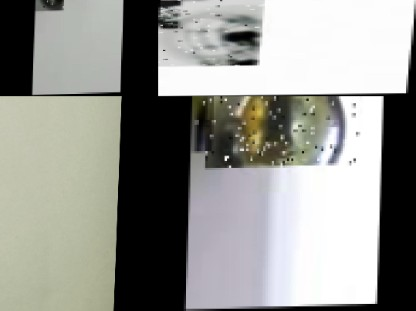ironball: (203, 96, 357, 169), (158, 0, 262, 66), (188, 96, 211, 153), (158, 0, 177, 28), (33, 0, 62, 11)
